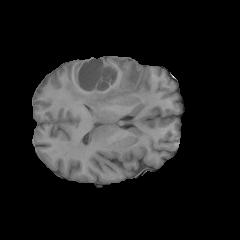glioma: (61, 56, 143, 109)
